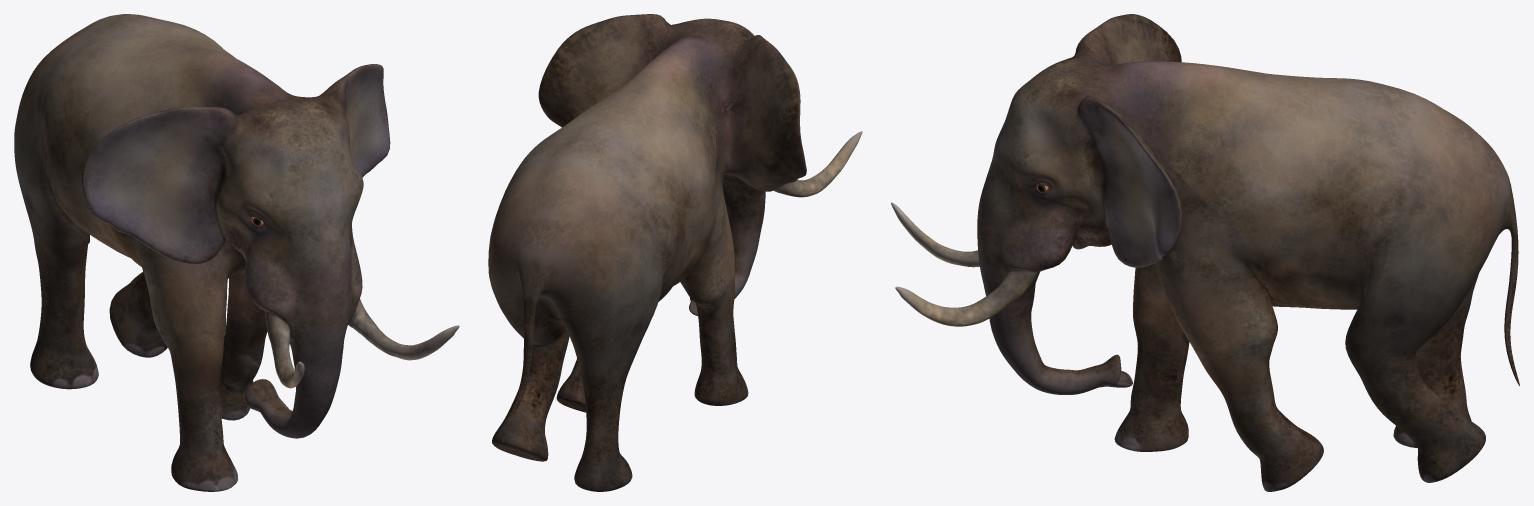
The model's file is Elefante Optimizado2.obj.
3 views of the same model, side by side, from view 1: azimuth 30°, elevation 25°; view 2: azimuth 150°, elevation 25°; view 3: azimuth 270°, elevation 25° (orthographic). The views are drawn at different scales.
Parts seen in each view (by area): view 1: MODELO_FINAL; view 2: MODELO_FINAL; view 3: MODELO_FINAL.
Boxes of the visible parts, left/top/right/bottom form: MODELO_FINAL: left=14, top=14, right=459, bottom=491; MODELO_FINAL: left=488, top=14, right=862, bottom=491; MODELO_FINAL: left=891, top=14, right=1519, bottom=491.
Size of the model in its own units: 3.7 by 4.62 by 6.5.
